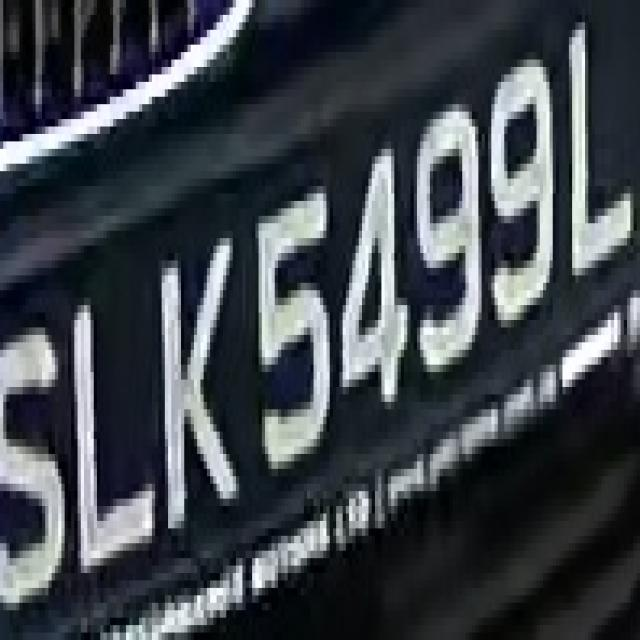4: (320, 141, 417, 439)
5: (246, 171, 330, 491)
9: (411, 89, 492, 387), (485, 52, 559, 357)
K: (152, 253, 249, 528)
L: (62, 290, 155, 558), (556, 22, 637, 283)
S: (0, 305, 65, 640)
